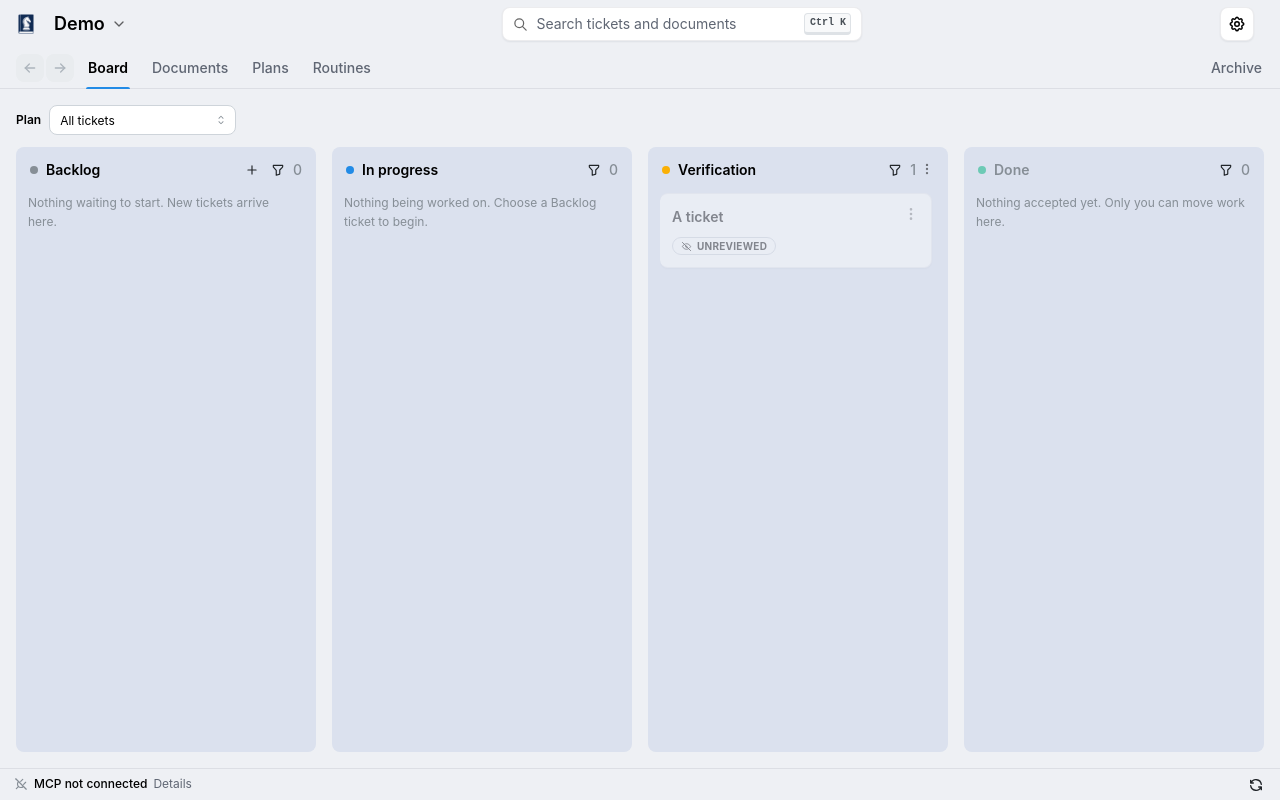
Test: the action bar at a readable width › says that the icon controls open a menu, and when one is open
Click the text "A ticket" at (698, 216), box [672, 208, 723, 225]
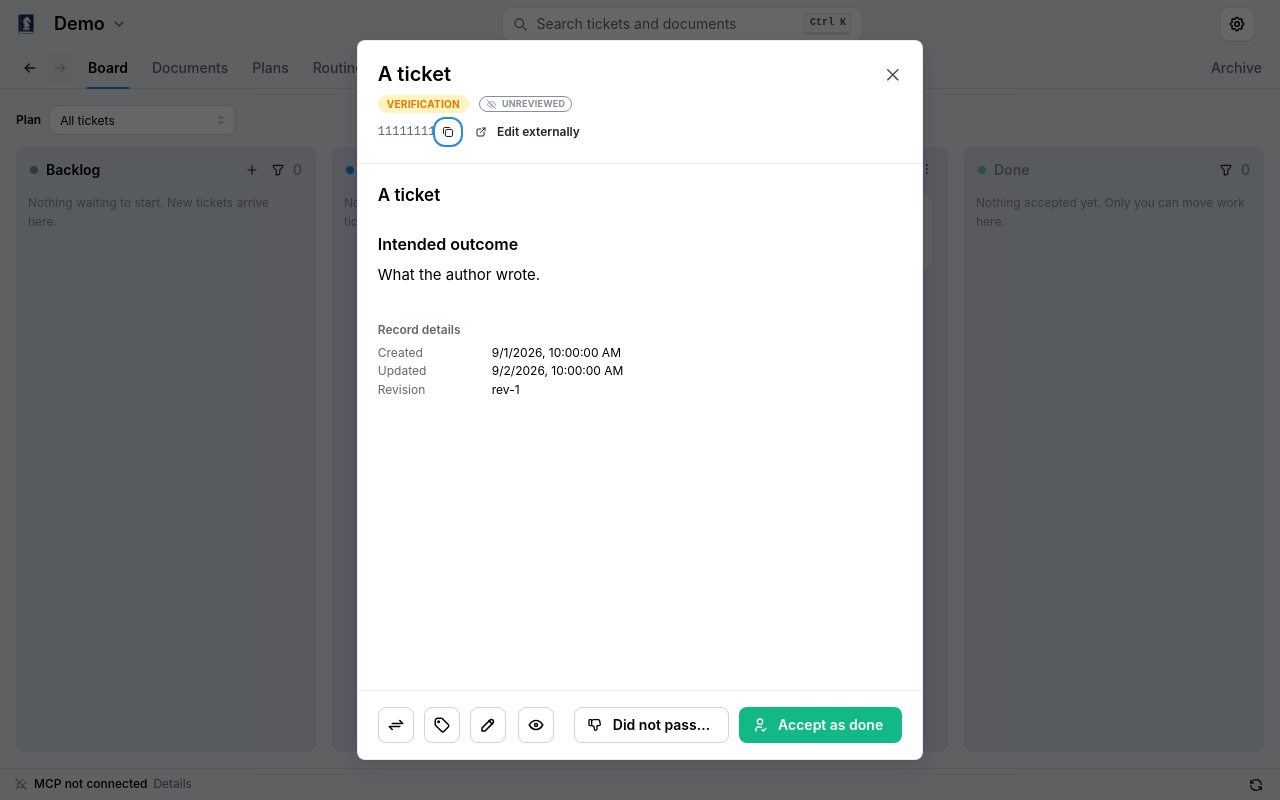
Click the button named "type" at (442, 725), box [424, 707, 460, 743]
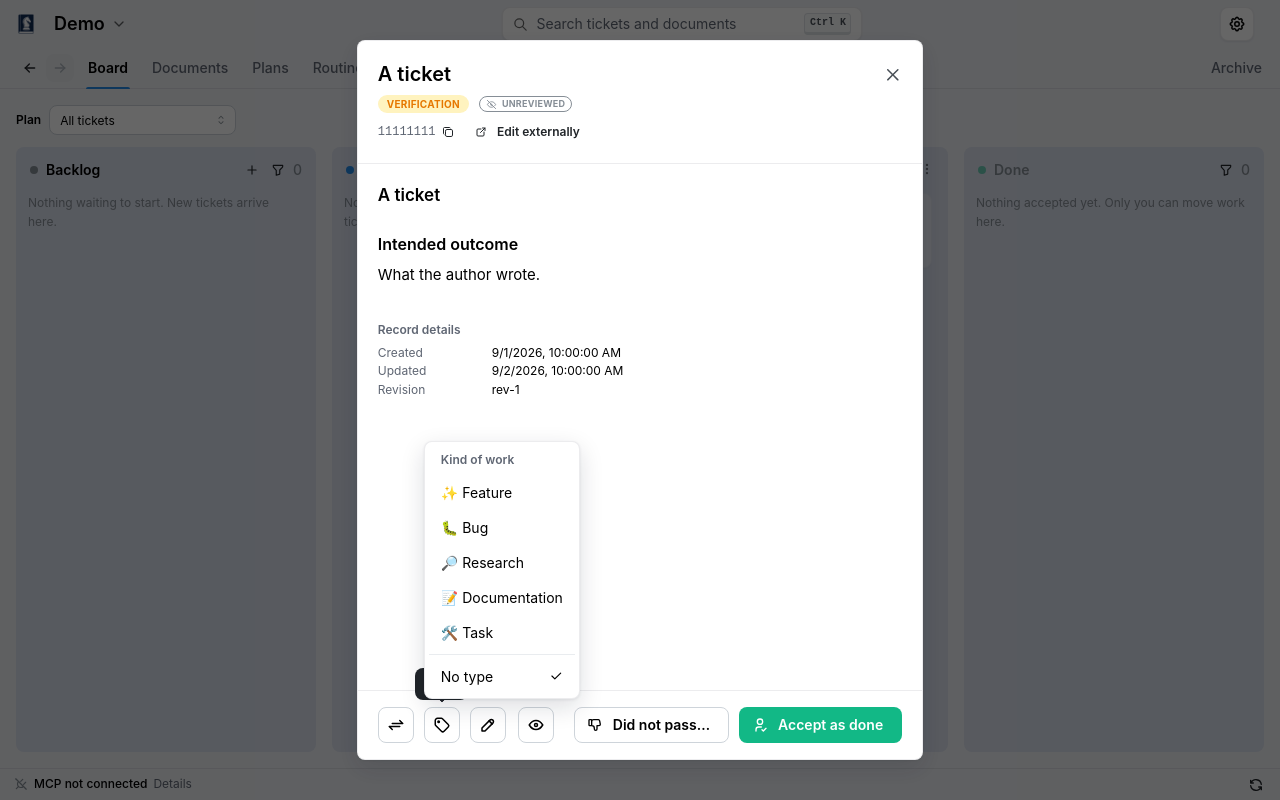
Result: the menu is shown at [424, 441, 580, 699]
